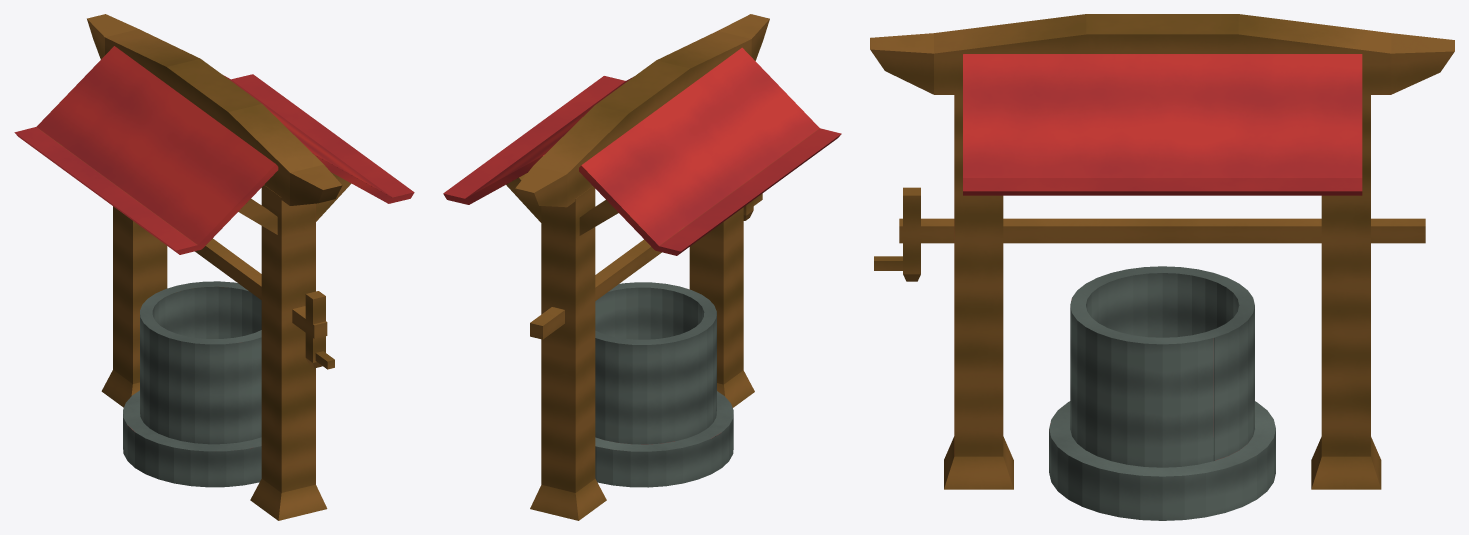
Rendered from well.fbx.
The picture shows the model from 3 angles, left to right: view 1: azimuth 30°, elevation 25°; view 2: azimuth 150°, elevation 25°; view 3: azimuth 270°, elevation 25°; orthographic projection. The views are drawn at different scales.
Parts seen in each view (by area): view 1: Well EXP; view 2: Well EXP; view 3: Well EXP.
Boxes of the visible parts, box(x1,y1,x2,y2) form: Well EXP: box(14, 14, 414, 520); Well EXP: box(443, 14, 841, 520); Well EXP: box(870, 14, 1454, 520).
Bounding box in the file's own units: 334 × 487 × 573.
Materials: 1 (1 with a texture image).
